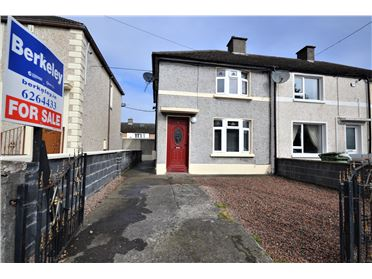property sign: (1, 11, 72, 138)
